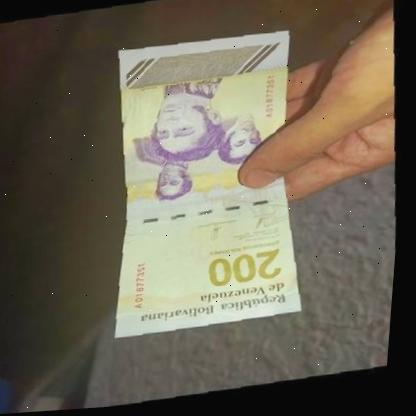two_hundred-front-vef: (101, 29, 323, 341)
